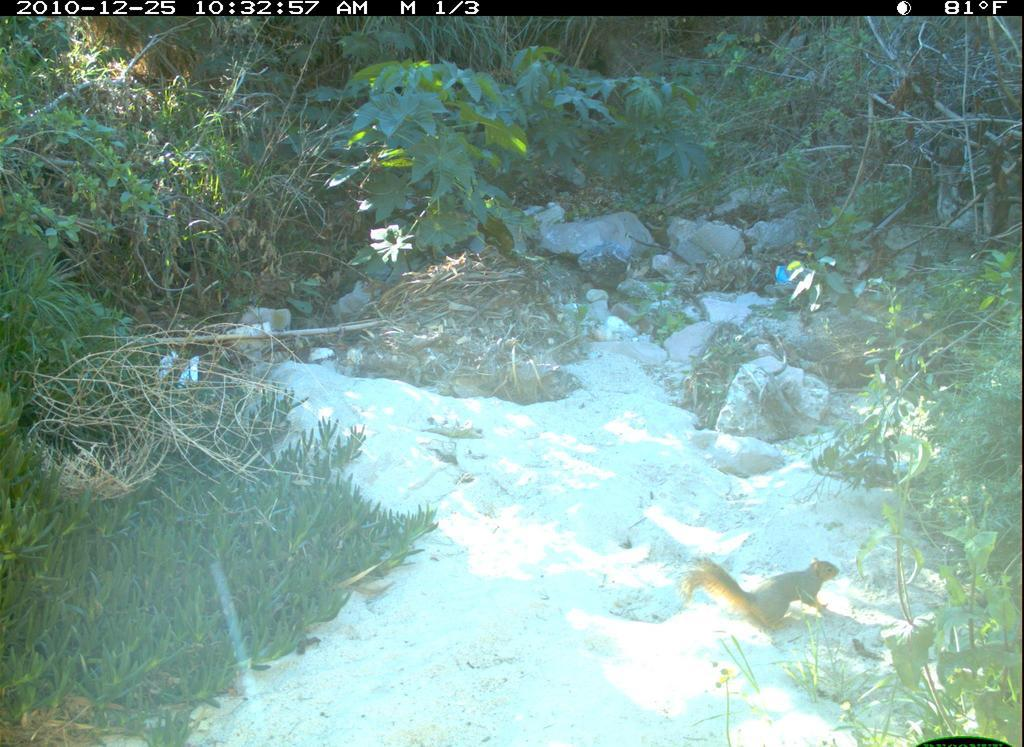squirrel: (687, 538, 863, 652)
